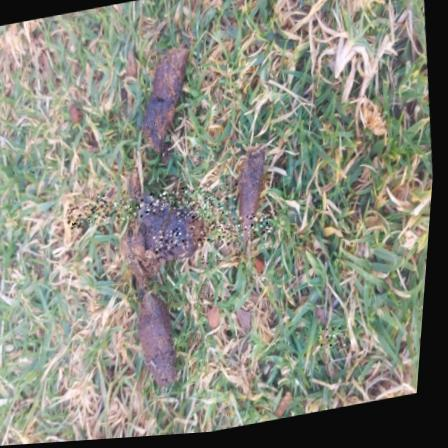dog-poop: (105, 167, 208, 405), (129, 38, 212, 157), (222, 130, 278, 278)
